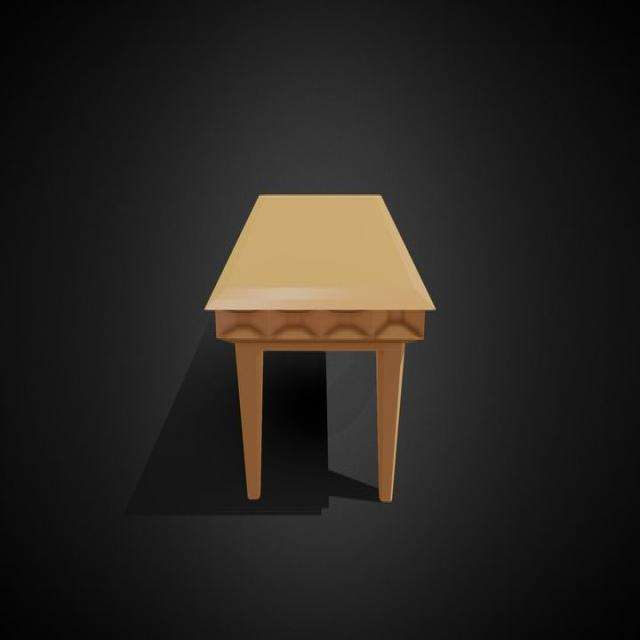table: (202, 196, 436, 505)
